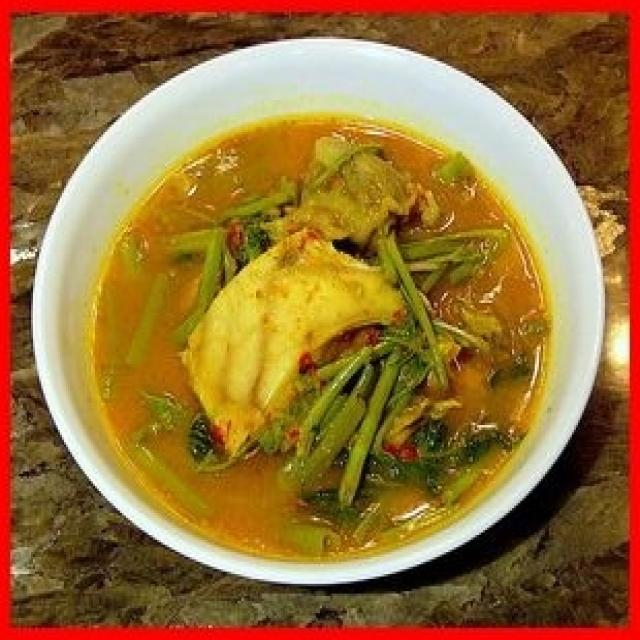汤锅炖物: (27, 34, 609, 594)
